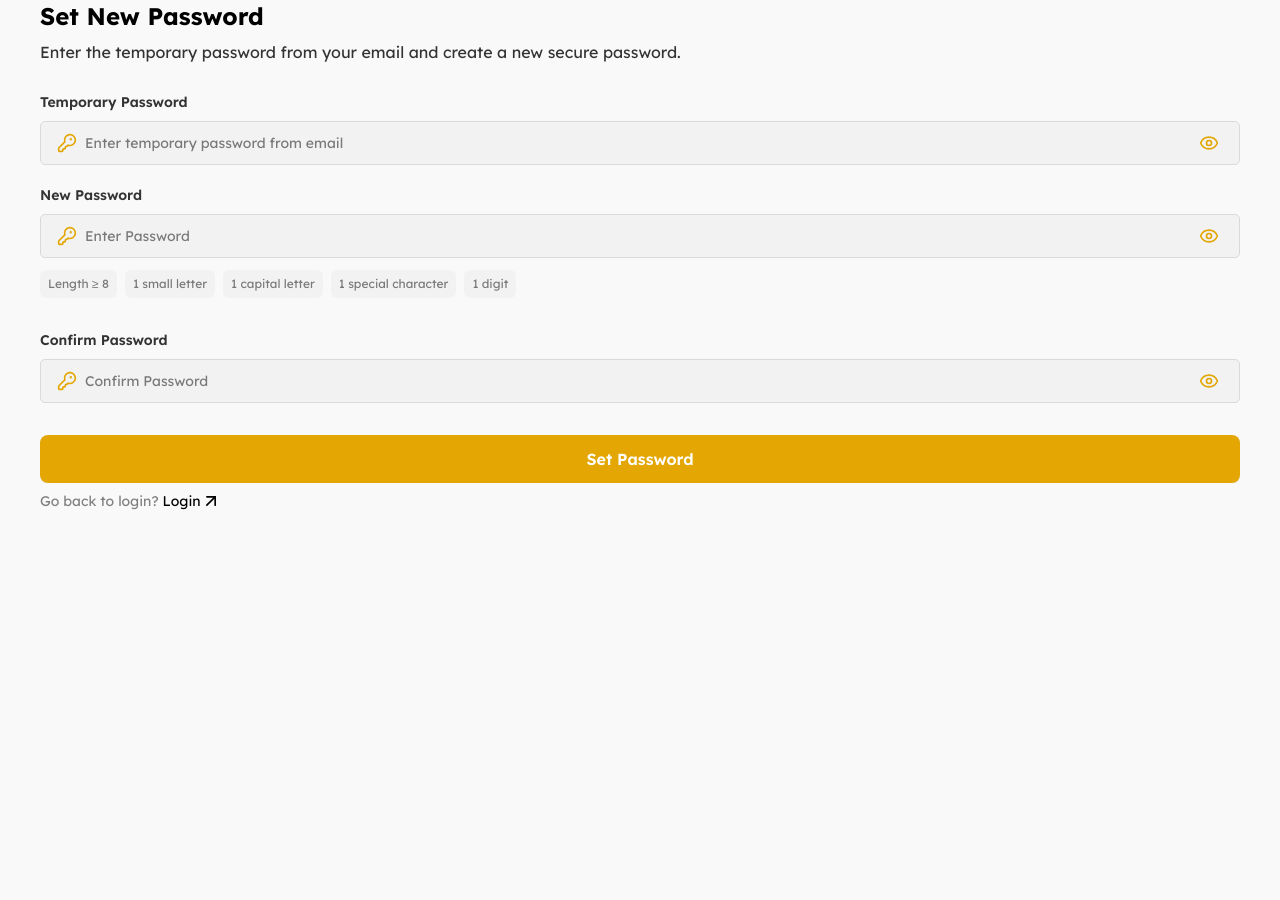
Scenario: FirstLoginSetupPasswordPage › auto-redirect › counts down in the popup so the wait is visible
Type "Temp@1234" into the password field labelled "Temporary Password" at coordinates (636, 143), box [85,132,1187,154]
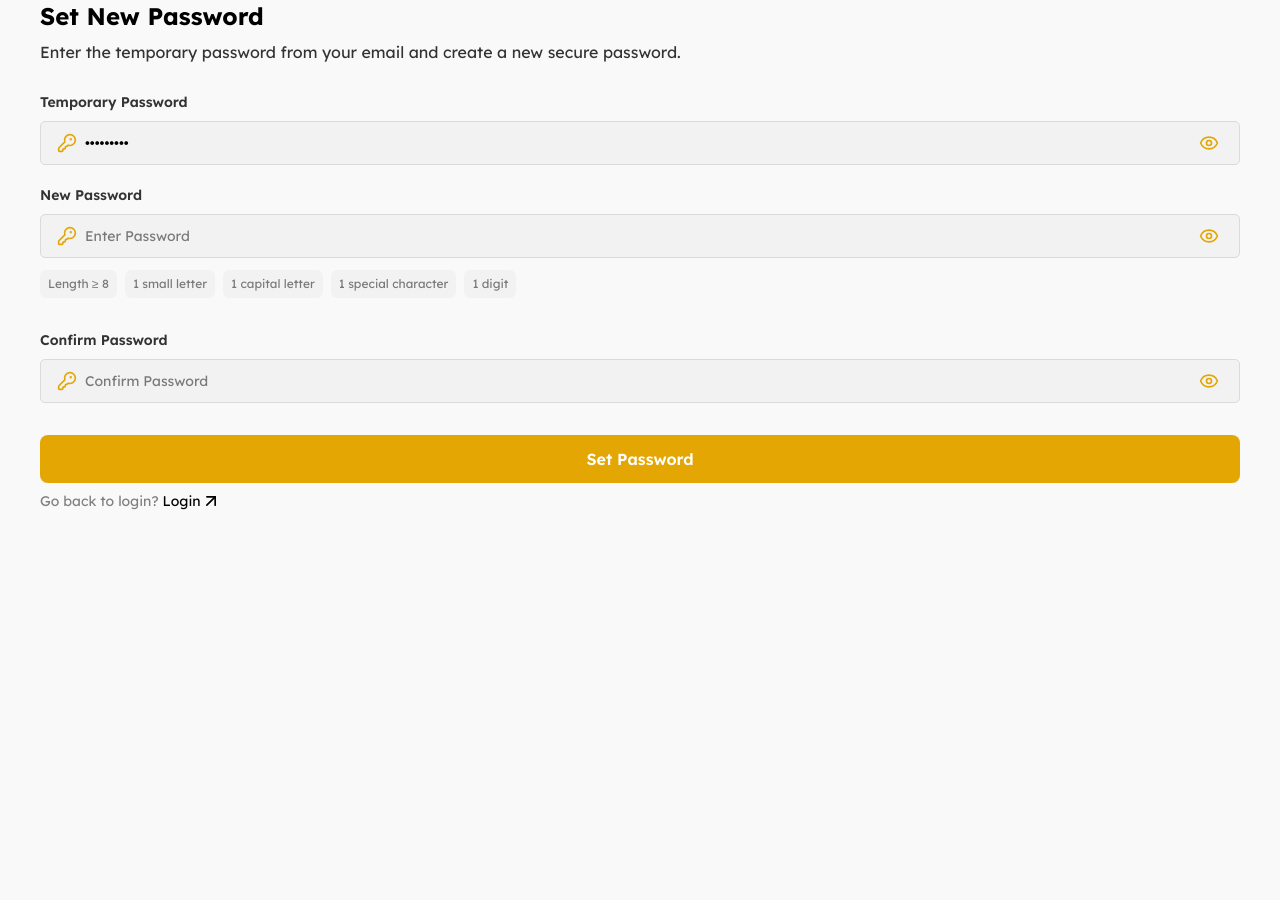
Type "TradeHarmony1!" into the password field labelled "New Password" at coordinates (636, 236), box [85,226,1187,246]
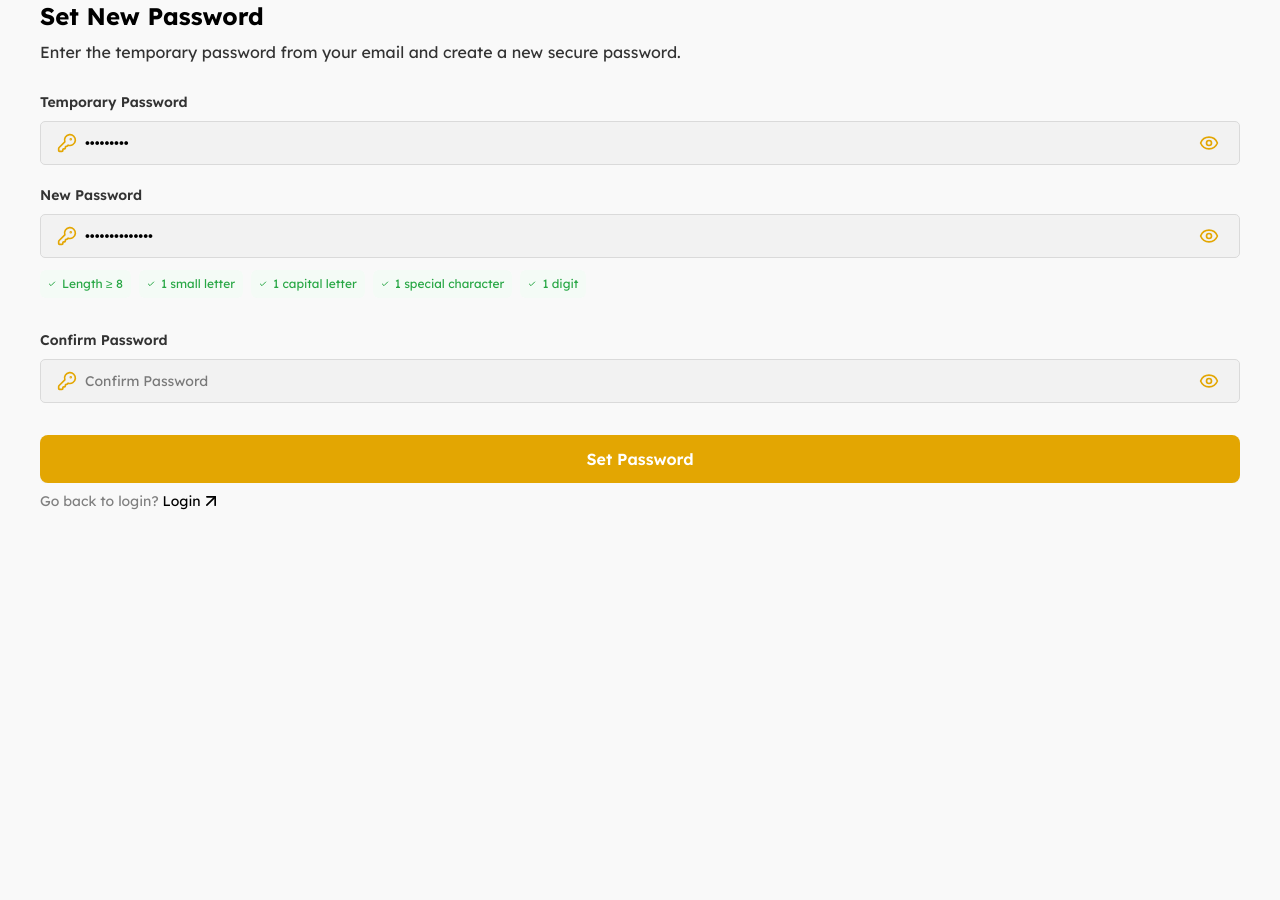
Type "TradeHarmony1!" into the password field labelled "Confirm Password" at coordinates (636, 381), box [85,370,1187,392]
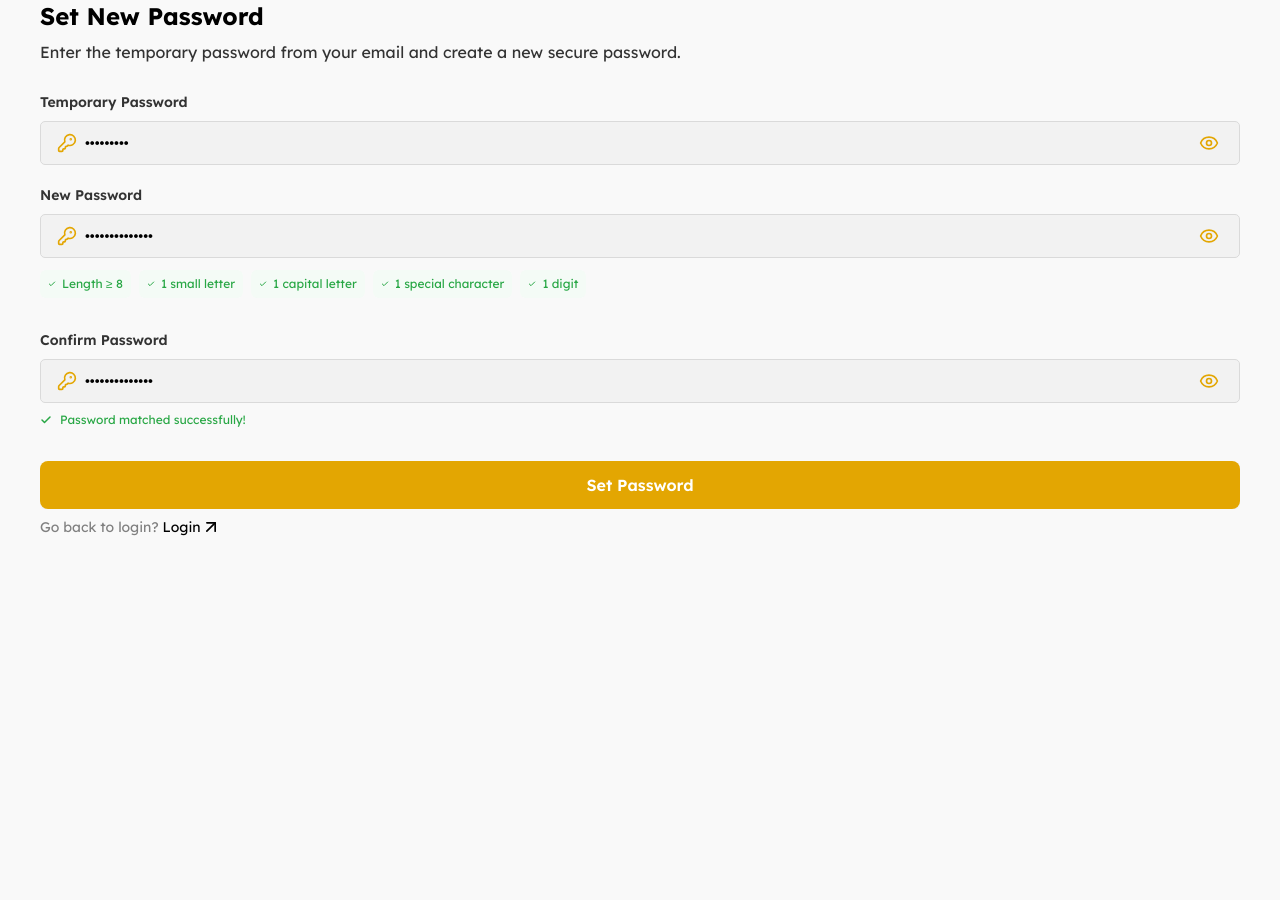
Click the button "Set Password" at coordinates (640, 485), box [40,461,1240,509]
Wait 2000 ms
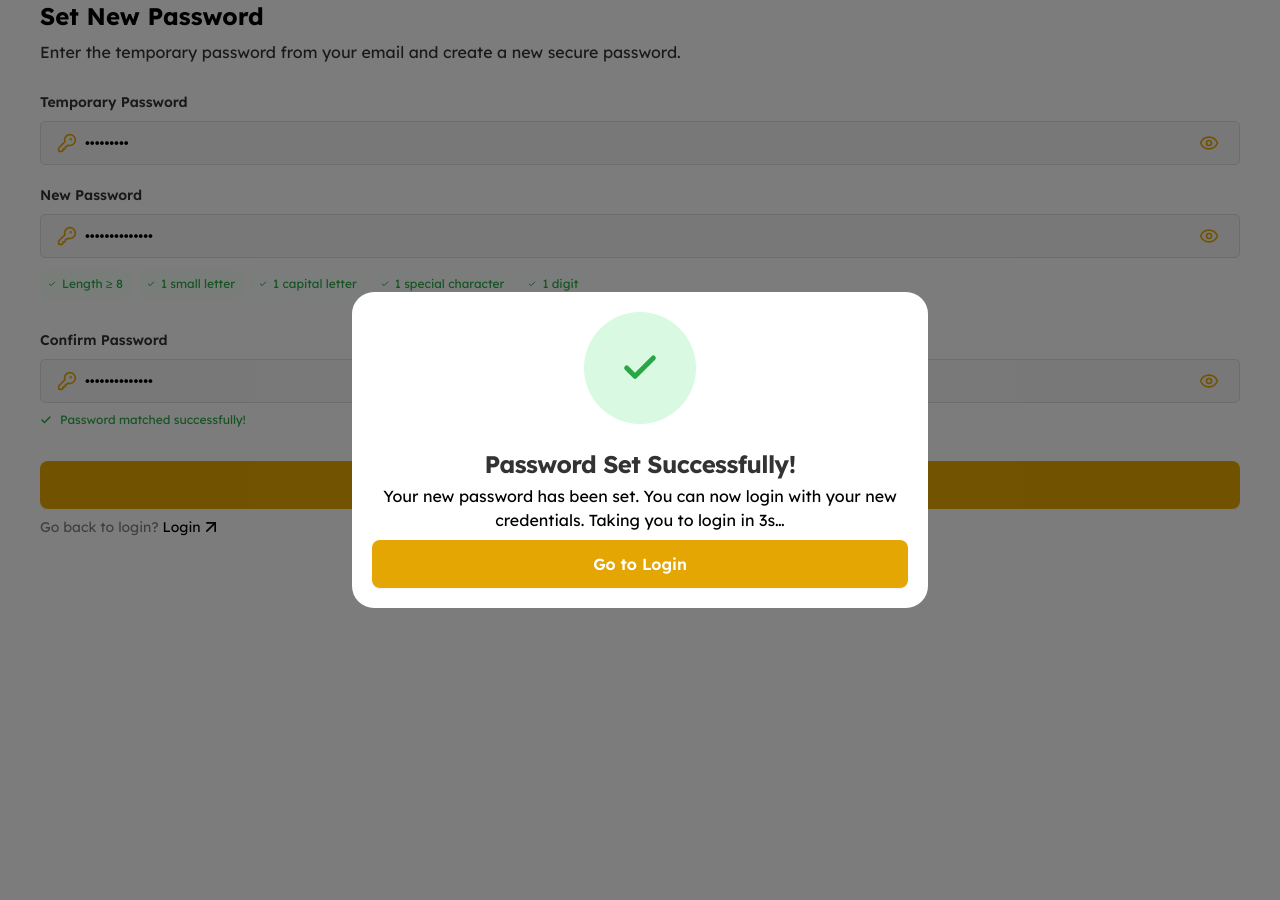
Expected: the text "login in 5s" is shown, [372,484,908,532]
Expected: the text "login in 3s" is shown, [383,486,897,530]
